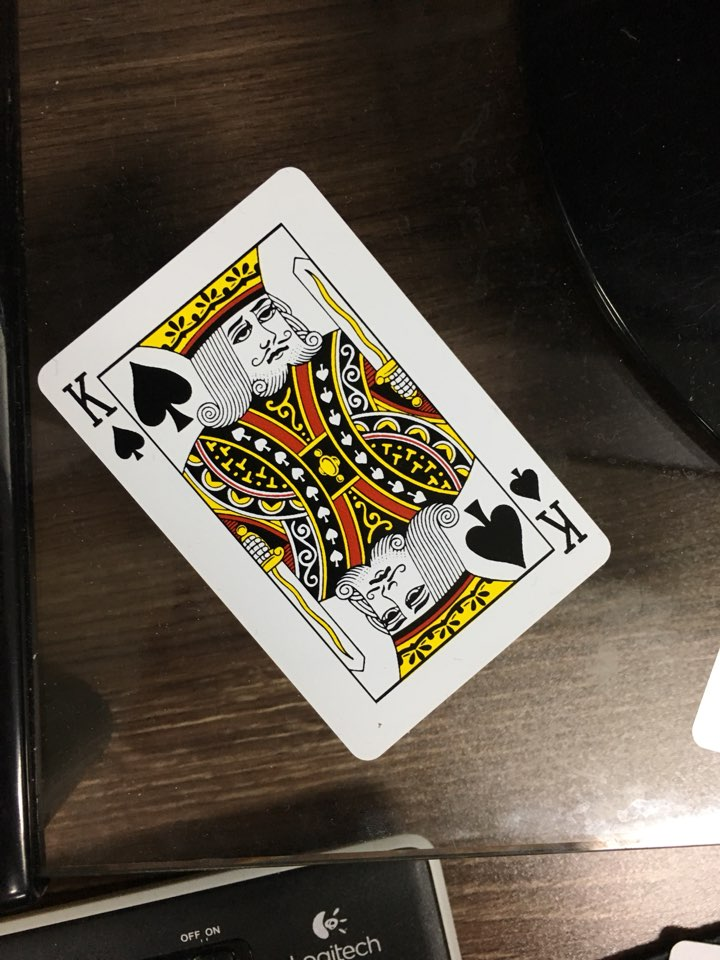king: (30, 147, 638, 788)
